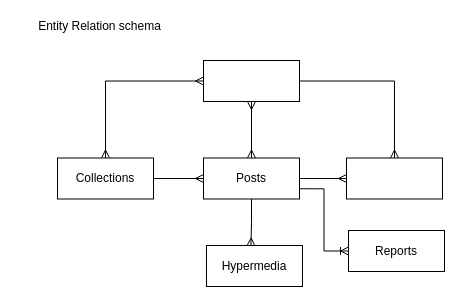
The diagram is 462 pixels wide and 304 high, and some of its shapes have lost their labels. The box of each missing label's shape, as (x1, y1, x2, y2) in pixels:
Reactions: (346, 157, 442, 199)
Users: (202, 60, 300, 102)
